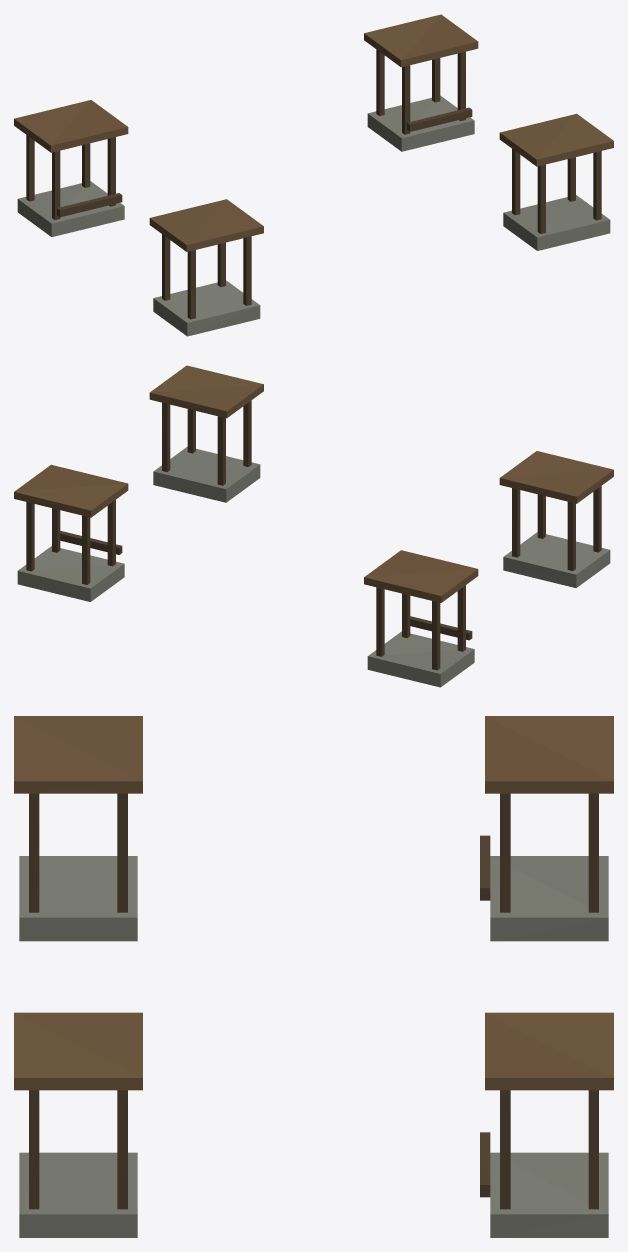
Rendered from SUP-04-5.glb.
3 views of the same model, one above another, from view 1: azimuth 30°, elevation 25°; view 2: azimuth 150°, elevation 25°; view 3: azimuth 270°, elevation 25° (orthographic). The views are drawn at different scales.
Visible parts, largest first — view 1: city-details/SUP-04-5; view 2: city-details/SUP-04-5; view 3: city-details/SUP-04-5.
Part boxes in pixels (left/top/right/bottom): city-details/SUP-04-5: left=14, top=14, right=613, bottom=336; city-details/SUP-04-5: left=14, top=365, right=613, bottom=687; city-details/SUP-04-5: left=14, top=716, right=613, bottom=1237.
Size of the model in its own units: 8.91 by 1.87 by 6.24.
